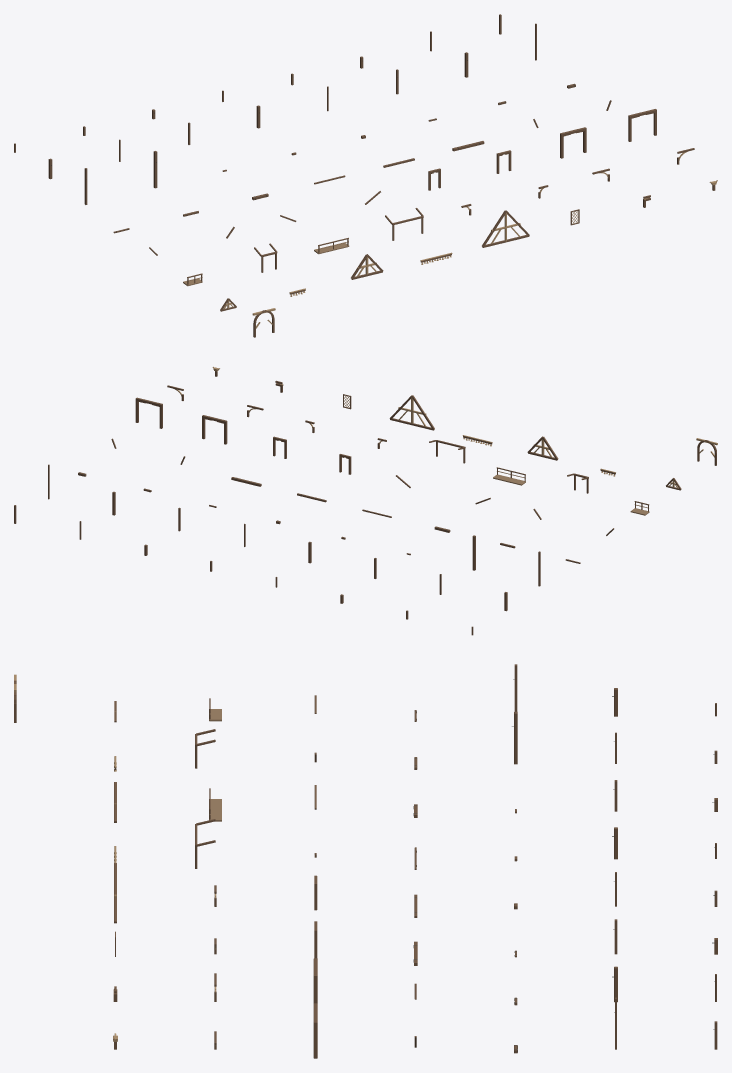
File: frames.glb
3 views of the same model, one above another, from view 1: azimuth 30°, elevation 25°; view 2: azimuth 150°, elevation 25°; view 3: azimuth 270°, elevation 25° (orthographic). The views are drawn at different scales.
Parts seen in each view (by area): view 1: GK_frame_gable_truss_6m; view 2: GK_frame_gable_truss_6m; view 3: no part large enough to name.
Boxes of the visible parts, bbox=[...] form: GK_frame_gable_truss_6m: bbox=[482, 210, 529, 247]; GK_frame_gable_truss_6m: bbox=[389, 395, 434, 430].
Bounding box in the file's own units: 66.52 × 4.86 × 56.26.
